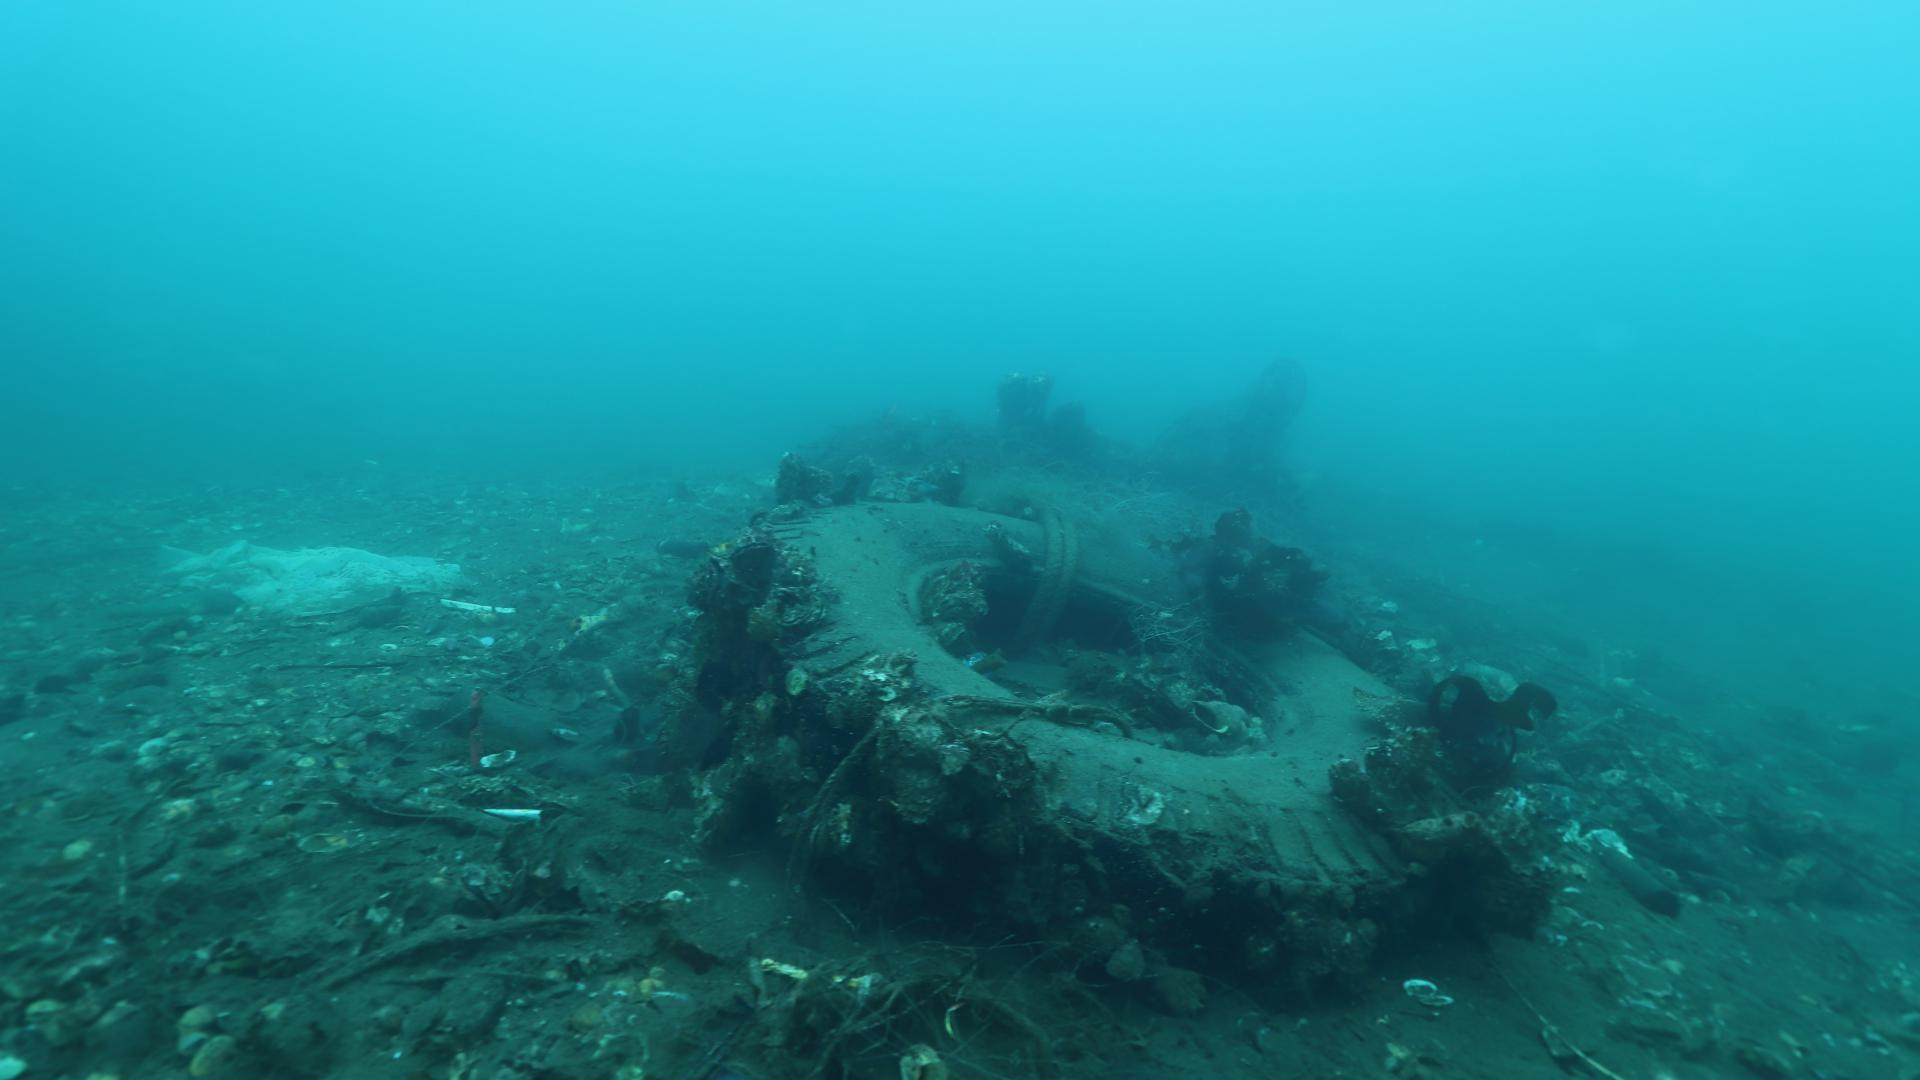bundle of ropes: (1000, 496, 1083, 665)
tire: (760, 498, 1437, 945)
